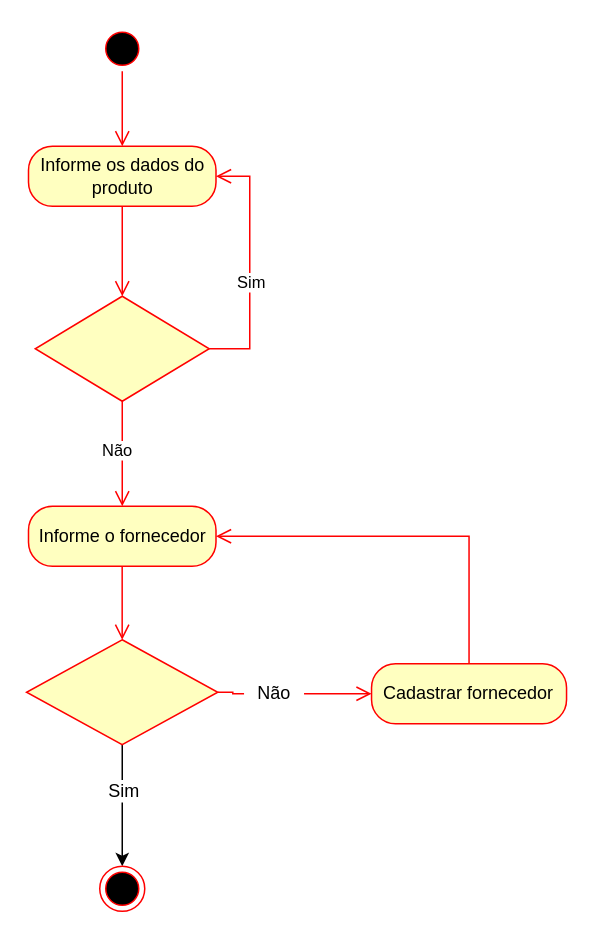
The diagram is 593 pixels wide and 938 high, and some of its shapes have lost their labels. Here are the shapes that lost their labels. From the top down, the centre of each, then its label:
the point at 121,348: Produto já cadastrado?
the point at 121,691: Fornecedor já cadastrado?
